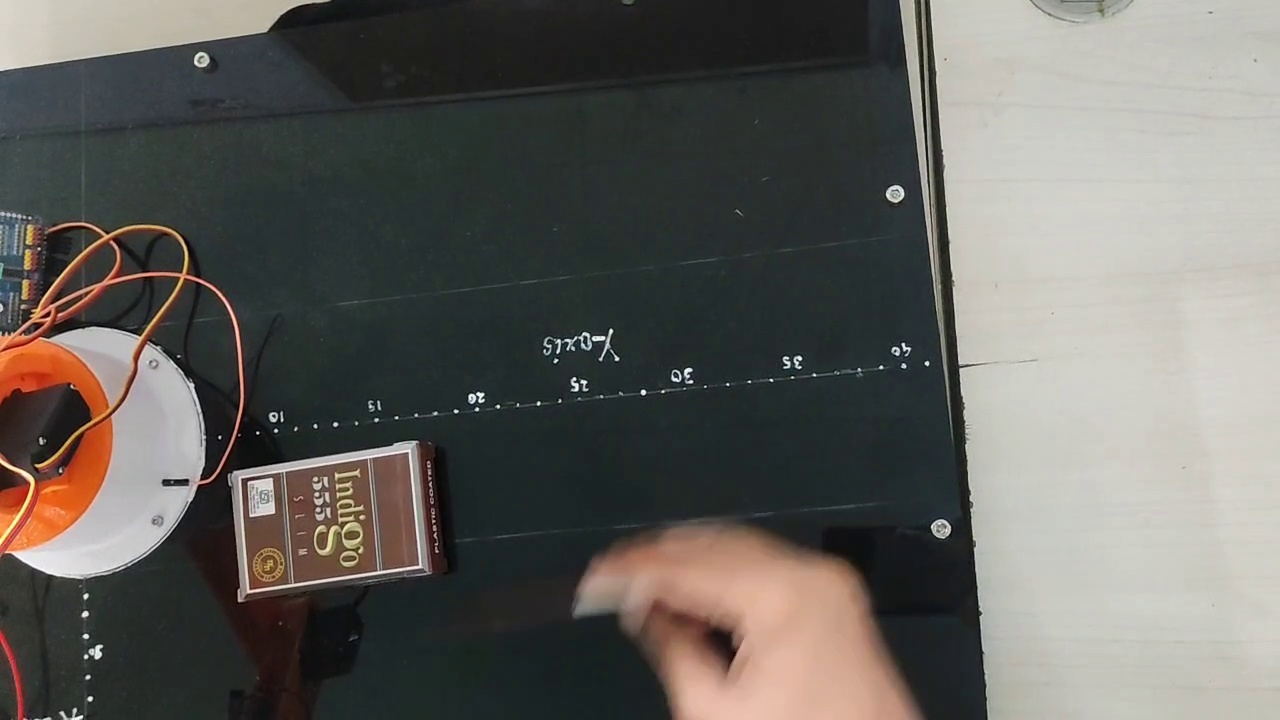BEX: (237, 452, 419, 584)
